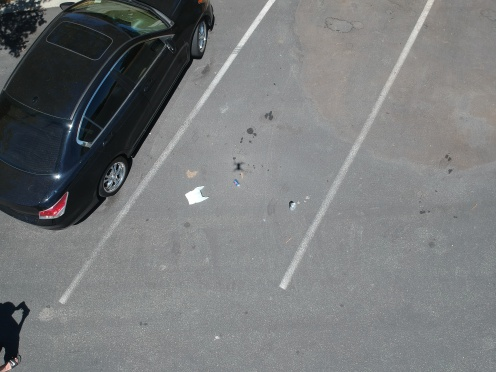bottle: (287, 200, 298, 212)
can: (232, 178, 242, 188)
plastic bag: (181, 183, 209, 206)
